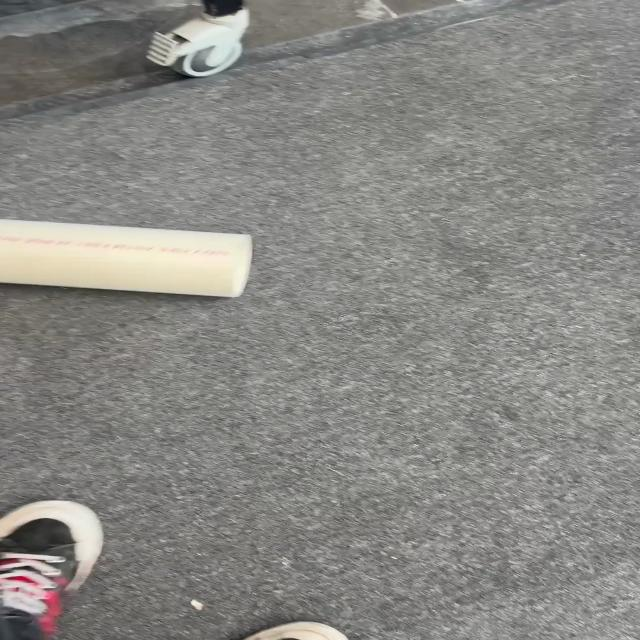Coral: (1, 217, 253, 298), (145, 6, 250, 78)
